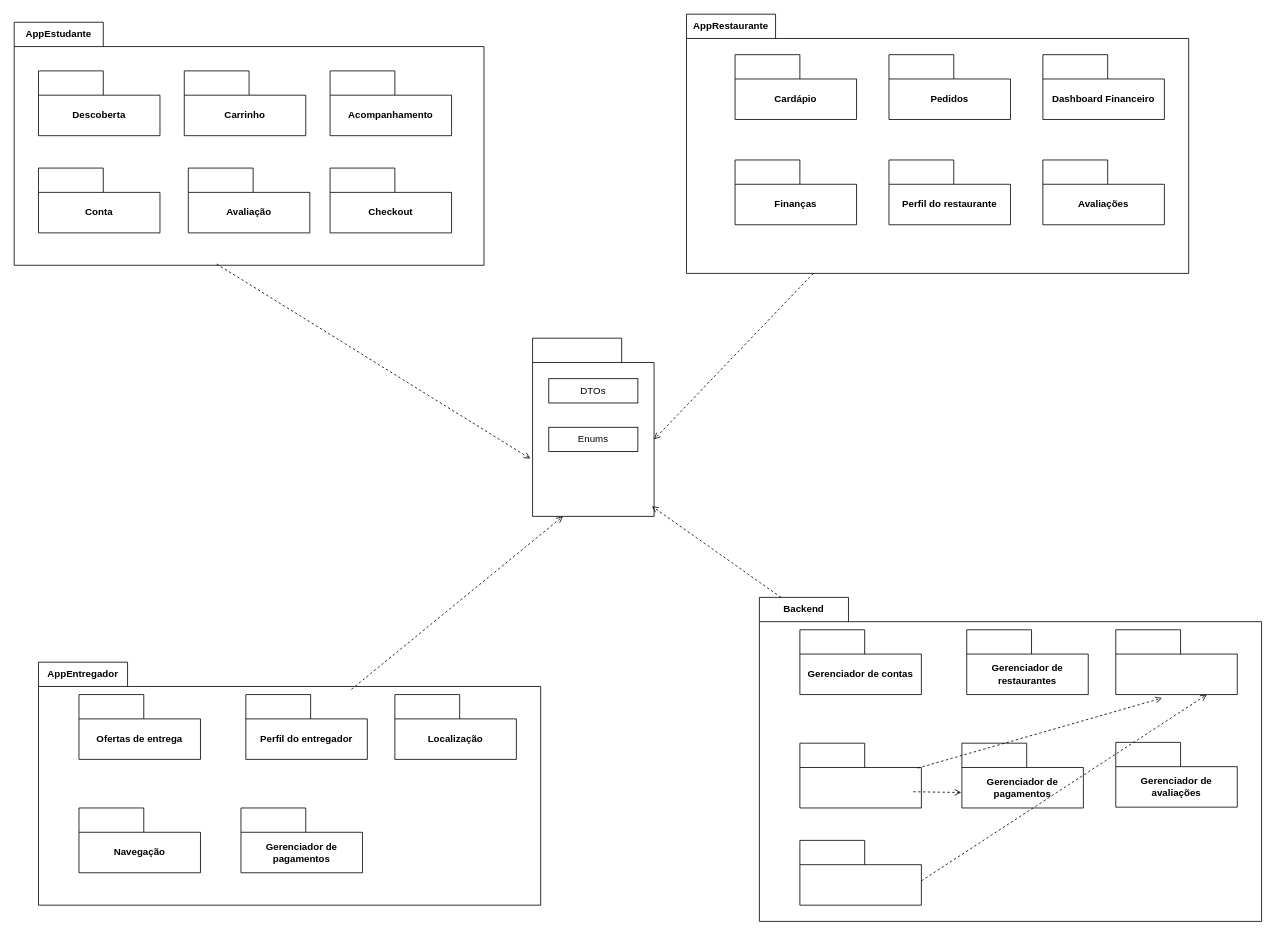
Image size: 1276x936. Some labels were removed from this diagram. The shapes that lost their labels are listed below. From the top down, each one's centre as x and y in pixels, then its label:
At point (593, 426): "SharedKernel".
At point (1176, 662): "Orquestrador de pedidos".
At point (860, 775): "Gerenciador de entregas".
At point (860, 872): "Gerenciador de notificações".
